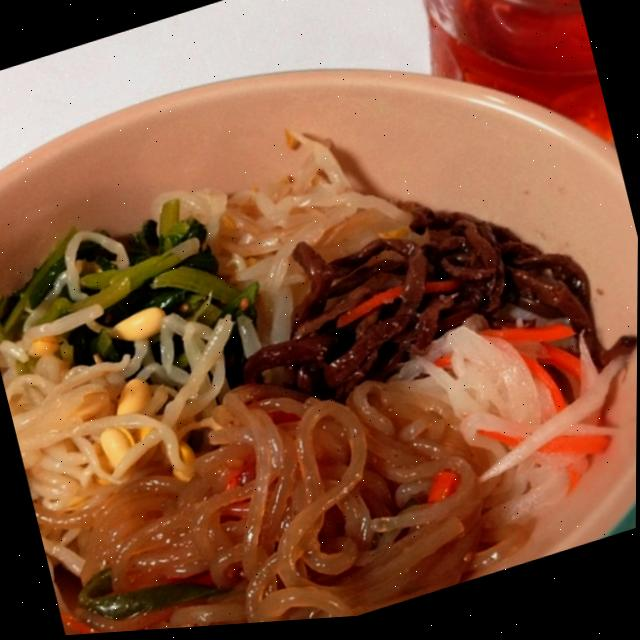面条主食: (37, 0, 640, 638)
